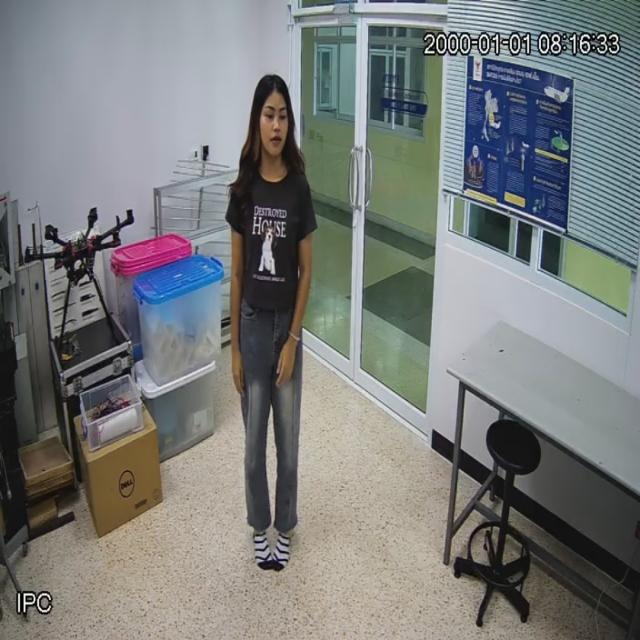normal: (223, 74, 324, 578)
